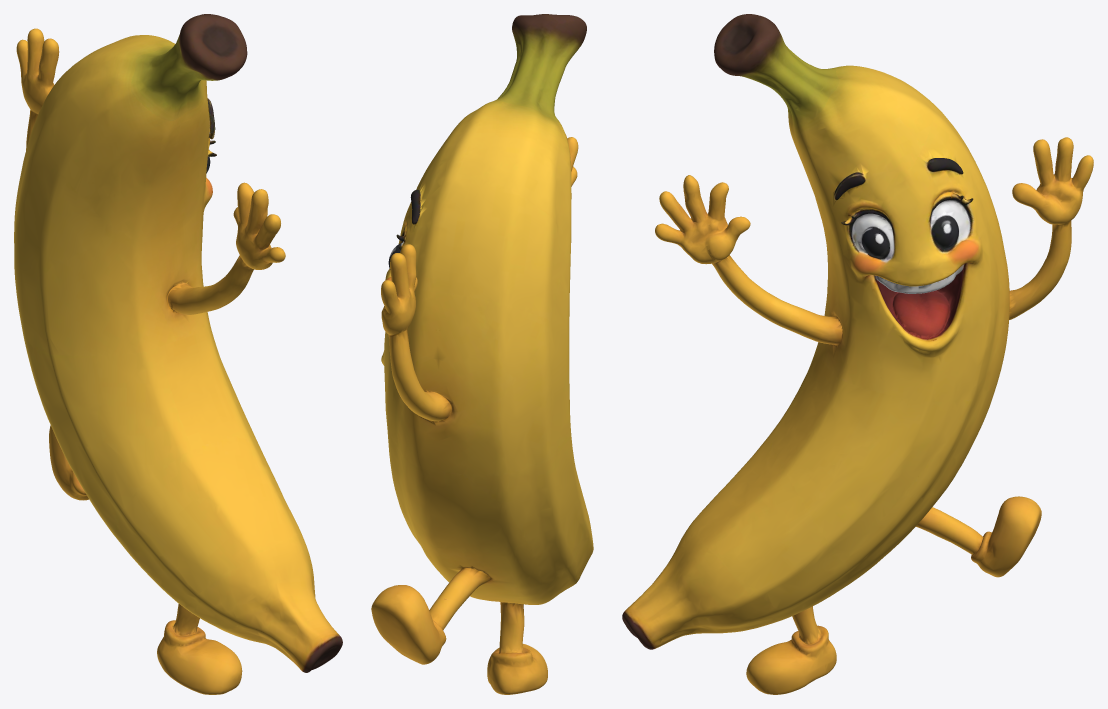
Rendered from banana.glb.
The picture shows the model from 3 angles, left to right: view 1: azimuth 30°, elevation 25°; view 2: azimuth 150°, elevation 25°; view 3: azimuth 270°, elevation 25°; orthographic projection. The views are drawn at different scales.
Parts seen in each view (by area): view 1: tripo_node_f2902af5-d4a5-4d90-a2f5-c066647cf434; view 2: tripo_node_f2902af5-d4a5-4d90-a2f5-c066647cf434; view 3: tripo_node_f2902af5-d4a5-4d90-a2f5-c066647cf434.
Part boxes in pixels (x1,y1,x2,y2): tripo_node_f2902af5-d4a5-4d90-a2f5-c066647cf434: (14, 14, 342, 694); tripo_node_f2902af5-d4a5-4d90-a2f5-c066647cf434: (371, 14, 593, 694); tripo_node_f2902af5-d4a5-4d90-a2f5-c066647cf434: (622, 14, 1093, 694).
Bounding box in the file's own units: 0.2882 × 0.9999 × 0.6505.
1 material, 1 textured.
